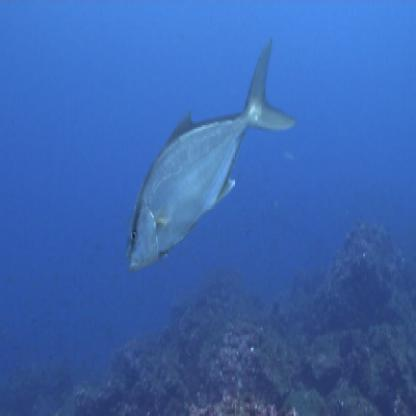jack: (124, 25, 304, 279)
